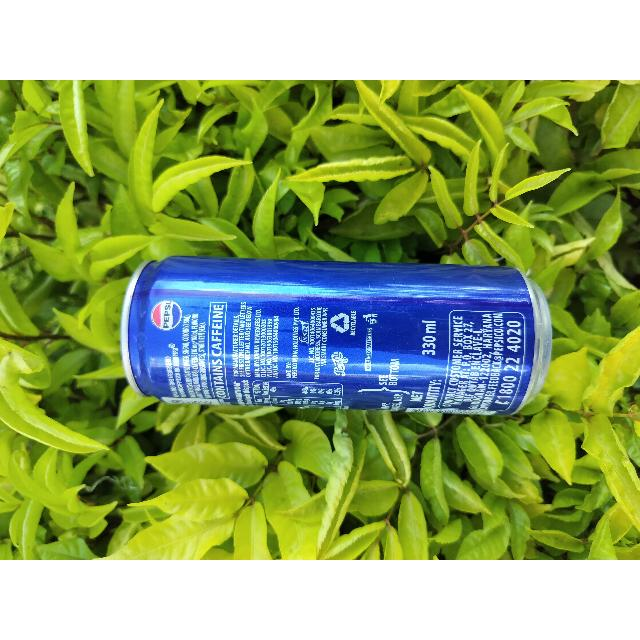Pepsi: (111, 251, 554, 425)
